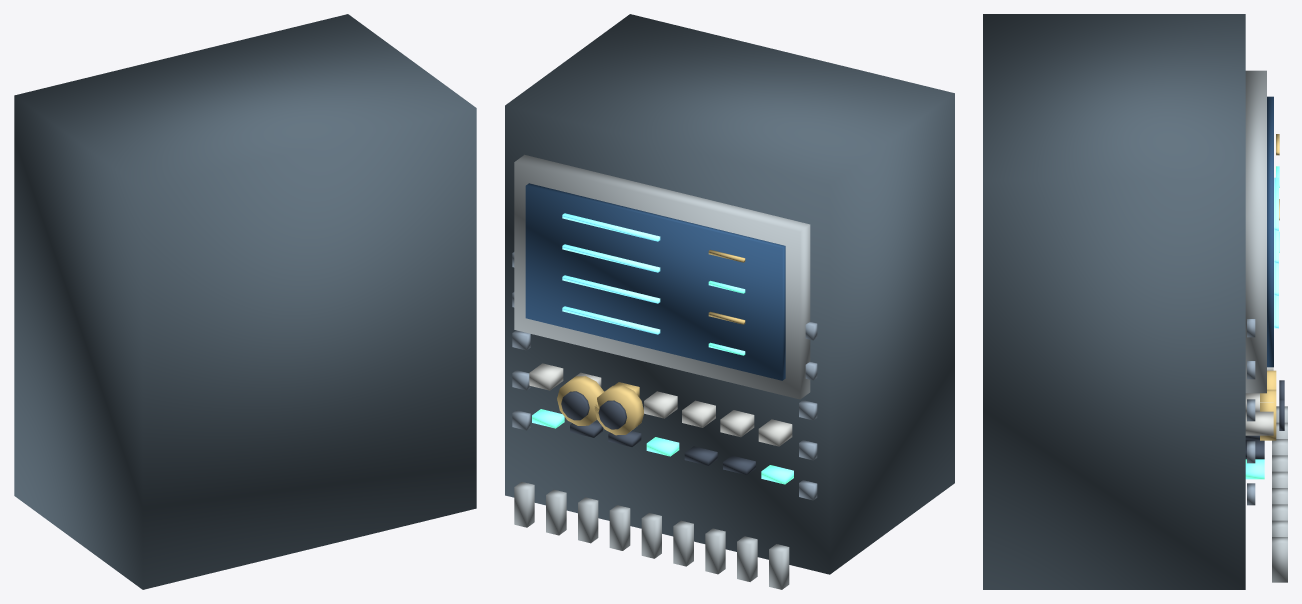
The model's file is L84_58_ActivePointingVibrationFilter_Fitted.fbx.
3 renders of one model, left to right at view 1: azimuth 30°, elevation 25°; view 2: azimuth 150°, elevation 25°; view 3: azimuth 270°, elevation 25°, orthographic. The views are drawn at different scales.
Visible parts, largest first — view 1: L84_ActivePointingVibrationFilter_Static__tint1C2933; view 2: L84_ActivePointingVibrationFilter_Static__tint1C2933, L84_ActivePointingVibrationFilter_Static__tint0B214A, L84_ActivePointingVibrationFilter_Static__tint91A3AD, L84_ActivePointingVibrationFilter_Static__tintCCD4CF, L84_ActivePointingVibrationFilter_Static__tint131B26, L84_ActivePointingVibrationFilter_Static__tintF2B547, L84_ActivePointingVibrationFilter_Static__tint38CCFC, L84_ActivePointingVibrationFilter_Static__tint59738F, L84_ActivePointingVibrationFilter_Static__tint2BF0A8; view 3: L84_ActivePointingVibrationFilter_Static__tint1C2933, L84_ActivePointingVibrationFilter_Static__tint91A3AD, L84_ActivePointingVibrationFilter_Static__tint0B214A, L84_ActivePointingVibrationFilter_Static__tint59738F, L84_ActivePointingVibrationFilter_Static__tintCCD4CF, L84_ActivePointingVibrationFilter_Static__tintF2B547, L84_ActivePointingVibrationFilter_Static__tint38CCFC, L84_ActivePointingVibrationFilter_Static__tint131B26, L84_ActivePointingVibrationFilter_Static__tint2BF0A8.
Part boxes in pixels (left/top/right/bottom): L84_ActivePointingVibrationFilter_Static__tint1C2933: left=14, top=14, right=476, bottom=589; L84_ActivePointingVibrationFilter_Static__tint1C2933: left=505, top=14, right=954, bottom=574; L84_ActivePointingVibrationFilter_Static__tint0B214A: left=525, top=183, right=785, bottom=380; L84_ActivePointingVibrationFilter_Static__tint91A3AD: left=514, top=154, right=810, bottom=589; L84_ActivePointingVibrationFilter_Static__tintCCD4CF: left=529, top=363, right=792, bottom=446; L84_ActivePointingVibrationFilter_Static__tint131B26: left=561, top=391, right=755, bottom=475; L84_ActivePointingVibrationFilter_Static__tintF2B547: left=557, top=249, right=745, bottom=435; L84_ActivePointingVibrationFilter_Static__tint38CCFC: left=562, top=213, right=660, bottom=334; L84_ActivePointingVibrationFilter_Static__tint59738F: left=512, top=252, right=817, bottom=500; L84_ActivePointingVibrationFilter_Static__tint2BF0A8: left=532, top=280, right=793, bottom=484; L84_ActivePointingVibrationFilter_Static__tint1C2933: left=983, top=14, right=1245, bottom=589; L84_ActivePointingVibrationFilter_Static__tint91A3AD: left=1245, top=70, right=1287, bottom=582; L84_ActivePointingVibrationFilter_Static__tint0B214A: left=1267, top=96, right=1273, bottom=367; L84_ActivePointingVibrationFilter_Static__tint59738F: left=1247, top=319, right=1255, bottom=505; L84_ActivePointingVibrationFilter_Static__tintCCD4CF: left=1245, top=367, right=1273, bottom=435; L84_ActivePointingVibrationFilter_Static__tintF2B547: left=1260, top=134, right=1279, bottom=440; L84_ActivePointingVibrationFilter_Static__tint38CCFC: left=1274, top=177, right=1278, bottom=328; L84_ActivePointingVibrationFilter_Static__tint131B26: left=1245, top=380, right=1284, bottom=459; L84_ActivePointingVibrationFilter_Static__tint2BF0A8: left=1245, top=166, right=1279, bottom=479.
Size of the model in its own units: 9.6 by 11.22 by 7.42.
